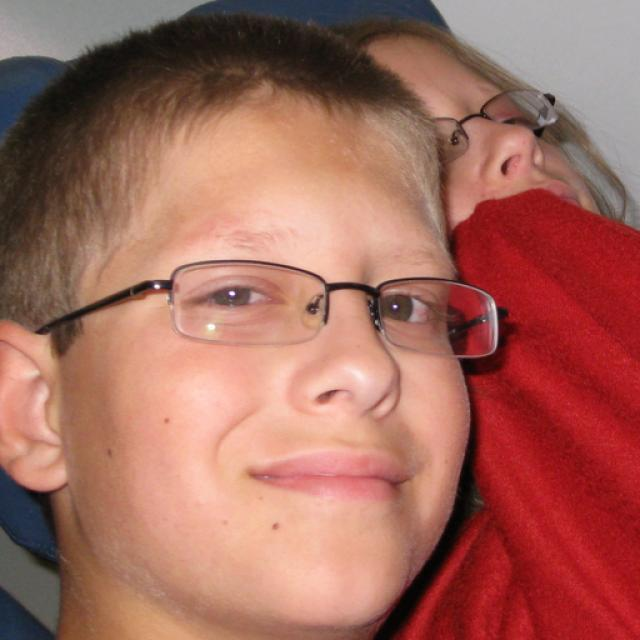content: (75, 91, 473, 635)
